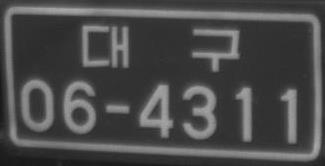0: (19, 77, 55, 132)
1: (229, 85, 262, 143), (274, 86, 305, 144)
3: (181, 83, 217, 140)
4: (138, 82, 173, 137)
6: (62, 78, 96, 134)
대구_D: (80, 21, 241, 72)
